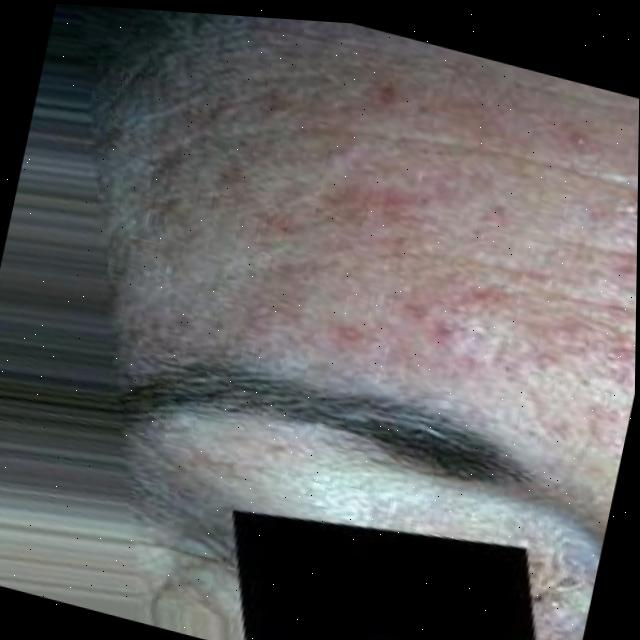Rosacea: (123, 21, 640, 435)
